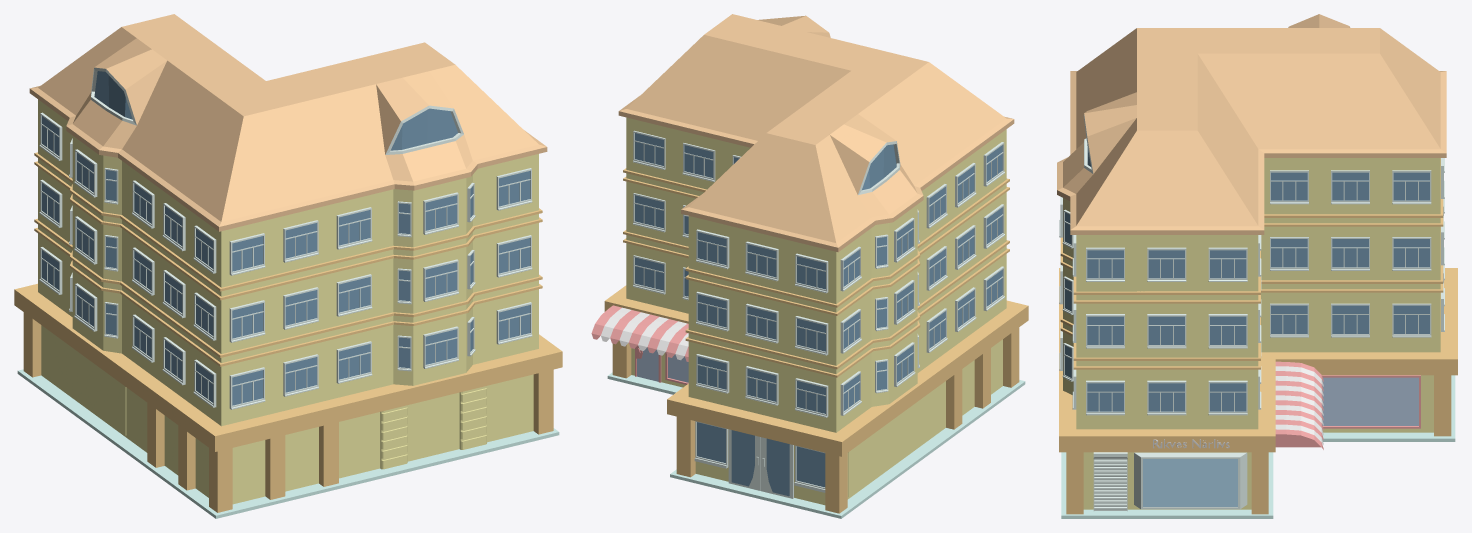
Rendered from Rikves_narlivs.fbx.
The picture shows the model from 3 angles, left to right: view 1: azimuth 30°, elevation 25°; view 2: azimuth 150°, elevation 25°; view 3: azimuth 270°, elevation 25°; orthographic projection. The views are drawn at different scales.
Visible parts, largest first — view 1: Building_facad, Cube.046, Cube.12, Cube.047, Cube.048, Cube.14, Cube.3, Cube.4, glass.033, glass.035, glass.022, glass.054 (+11 smaller); view 2: Building_facad, Cube.028, shed1, shed, Cube.24, Cube.14, Cube.15, Cube.027, Cube.024, Cube.4, Cube.046, Cube.3 (+24 smaller); view 3: Building_facad, showcase, Cube.038, shed1, blinds, shed, Cube.12, Cube.13, Cube.15, glass.038, glass.040, glass.070 (+34 smaller).
Boxes of the visible parts, left/top/right/bottom form: Building_facad: left=14, top=14, right=562, bottom=518; Cube.046: left=209, top=448, right=232, bottom=512; Cube.12: left=533, top=369, right=553, bottom=434; Cube.047: left=265, top=435, right=285, bottom=499; Cube.048: left=319, top=422, right=338, bottom=486; Cube.14: left=23, top=312, right=41, bottom=377; Cube.3: left=178, top=425, right=195, bottom=490; Cube.4: left=147, top=403, right=164, bottom=467; glass.033: left=339, top=277, right=370, bottom=312; glass.035: left=339, top=210, right=370, bottom=245; glass.022: left=339, top=344, right=370, bottom=379; glass.054: left=425, top=195, right=456, bottom=230; Building_facad: left=604, top=14, right=1028, bottom=518; Cube.028: left=731, top=430, right=789, bottom=496; shed1: left=591, top=305, right=688, bottom=361; shed: left=601, top=307, right=688, bottom=360; Cube.24: left=728, top=429, right=793, bottom=498; Cube.14: left=825, top=453, right=847, bottom=513; Cube.15: left=676, top=416, right=695, bottom=477; Cube.027: left=796, top=446, right=825, bottom=487; Cube.024: left=697, top=422, right=725, bottom=463; Cube.4: left=946, top=369, right=962, bottom=429; Cube.046: left=1003, top=327, right=1019, bottom=387; Cube.3: left=974, top=348, right=990, bottom=408; Building_facad: left=1057, top=14, right=1457, bottom=518; showcase: left=1134, top=452, right=1247, bottom=509; Cube.038: left=1322, top=377, right=1418, bottom=425; shed1: left=1275, top=361, right=1323, bottom=449; blinds: left=1093, top=452, right=1127, bottom=511; shed: left=1275, top=366, right=1323, bottom=444; Cube.12: left=1066, top=452, right=1083, bottom=514; Cube.13: left=1251, top=452, right=1268, bottom=514; Cube.15: left=1434, top=375, right=1451, bottom=436; glass.038: left=1087, top=383, right=1123, bottom=411; glass.040: left=1087, top=250, right=1123, bottom=278; glass.070: left=1332, top=239, right=1368, bottom=267.
Size of the model in its own units: 2931 by 2876 by 2928.
